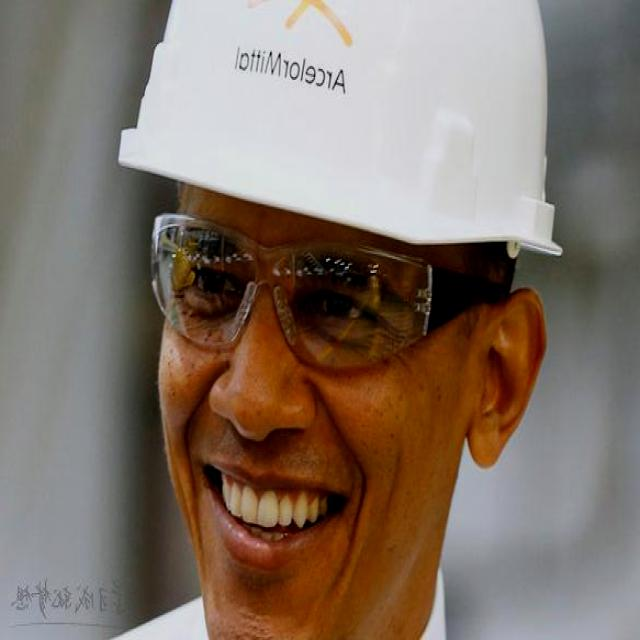face_nomask: (115, 182, 480, 640)
glasses: (140, 209, 458, 365)
head_helmet: (105, 0, 584, 256)
person: (68, 0, 564, 631)
